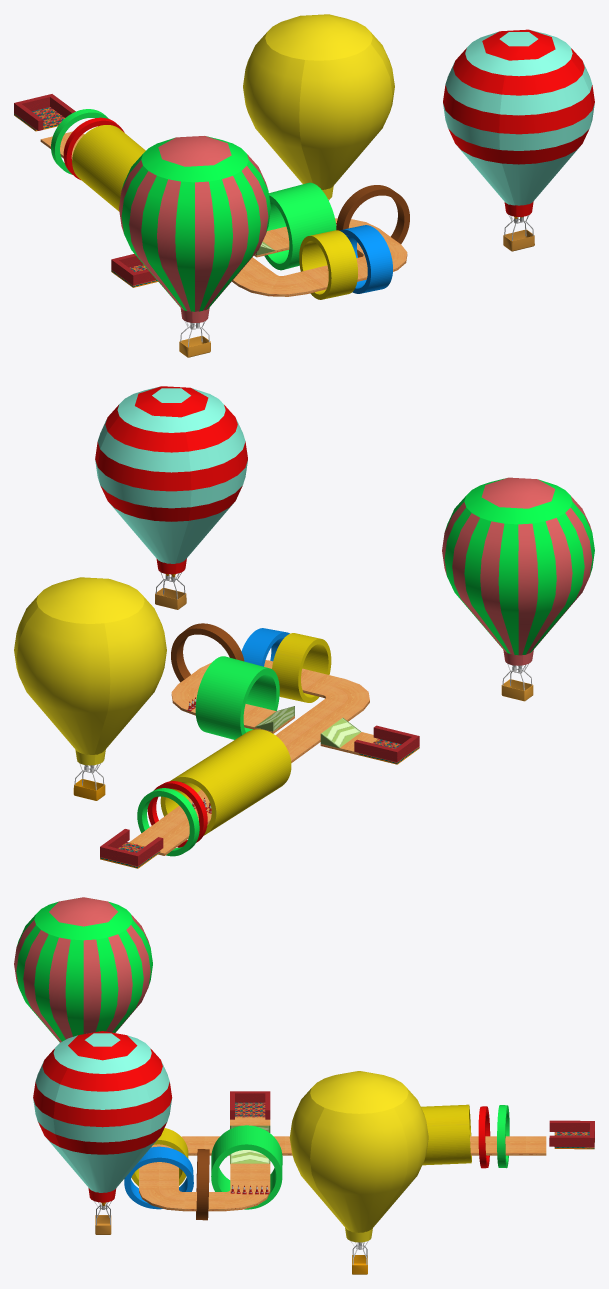
File: LEVEL 3.fbx
3 renders of one model, top to bottom at view 1: azimuth 30°, elevation 25°; view 2: azimuth 150°, elevation 25°; view 3: azimuth 270°, elevation 25°, orthographic. The views are drawn at different scales.
Visible parts, largest first — view 1: ballon__2, baloon_, ballon_1, yellow_1, green_1, blue, brown, yellow, _90Turn, green, _4x4__3_, red (+3 smaller); view 2: baloon_, ballon_1, ballon__2, yellow_1, green_1, blue, yellow, green, brown, red, _4x4__2_, _90Turn (+6 smaller); view 3: ballon__2, ballon_1, baloon_, yellow_1, green_1, brown, yellow, _90Turn__1_, _4x4__2__1, _90Turn__2_, _4x4__4_, _4x4__6_ (+5 smaller).
Boxes of the visible parts, x1=… form: ballon__2: x1=443, y1=29, x2=594, y2=251; baloon_: x1=119, y1=136, x2=270, y2=357; ballon_1: x1=243, y1=14, x2=394, y2=200; yellow_1: x1=72, y1=125, x2=145, y2=211; green_1: x1=264, y1=182, x2=336, y2=270; blue: x1=299, y1=230, x2=357, y2=299; brown: x1=340, y1=225, x2=392, y2=293; yellow: x1=336, y1=185, x2=409, y2=257; _90Turn: x1=238, y1=275, x2=306, y2=296; green: x1=51, y1=109, x2=108, y2=174; _4x4__3_: x1=285, y1=266, x2=328, y2=293; red: x1=63, y1=117, x2=124, y2=179; baloon_: x1=442, y1=477, x2=594, y2=701; ballon_1: x1=14, y1=577, x2=166, y2=800; ballon__2: x1=95, y1=386, x2=247, y2=609; yellow_1: x1=160, y1=729, x2=291, y2=835; green_1: x1=195, y1=656, x2=279, y2=739; blue: x1=272, y1=633, x2=331, y2=702; yellow: x1=171, y1=623, x2=244, y2=682; green: x1=137, y1=788, x2=199, y2=856; brown: x1=241, y1=628, x2=289, y2=666; red: x1=147, y1=781, x2=207, y2=847; _4x4__2_: x1=303, y1=698, x2=363, y2=722; _90Turn: x1=323, y1=679, x2=369, y2=709; ballon__2: x1=33, y1=1031, x2=172, y2=1234; ballon_1: x1=289, y1=1071, x2=428, y2=1274; baloon_: x1=14, y1=897, x2=152, y2=1042; yellow_1: x1=421, y1=1104, x2=471, y2=1165; green_1: x1=211, y1=1125, x2=282, y2=1209; brown: x1=124, y1=1146, x2=193, y2=1209; yellow: x1=196, y1=1149, x2=209, y2=1220; _90Turn__1_: x1=139, y1=1189, x2=184, y2=1211; _4x4__2__1: x1=506, y1=1136, x2=546, y2=1155; _90Turn__2_: x1=224, y1=1189, x2=270, y2=1211; _4x4__4_: x1=139, y1=1172, x2=178, y2=1189; _4x4__6_: x1=230, y1=1172, x2=270, y2=1189.
Size of the model in its own units: 4897 by 2823 by 5780.
Materials: 24 (10 with a texture image).
